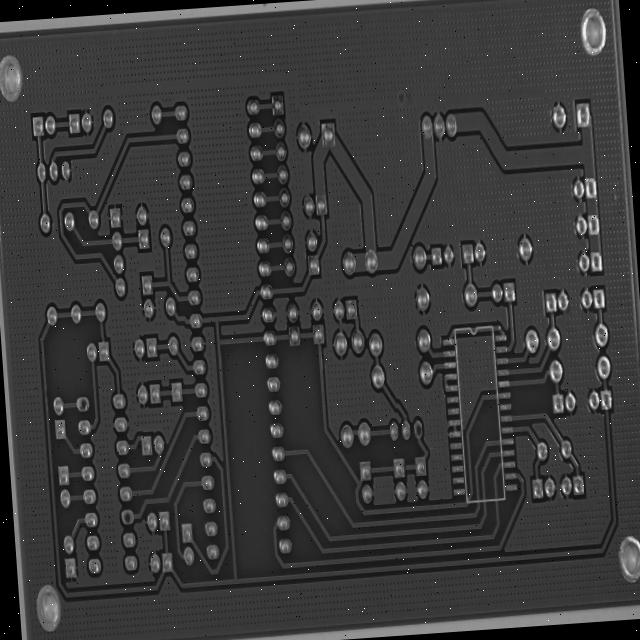missing_hole: (403, 536, 419, 572), (43, 502, 60, 533)
